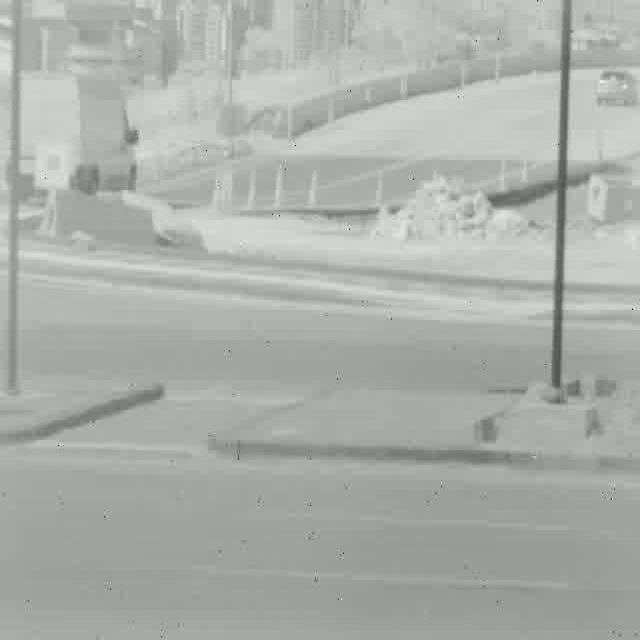Car: (9, 70, 137, 198), (597, 68, 636, 109)
